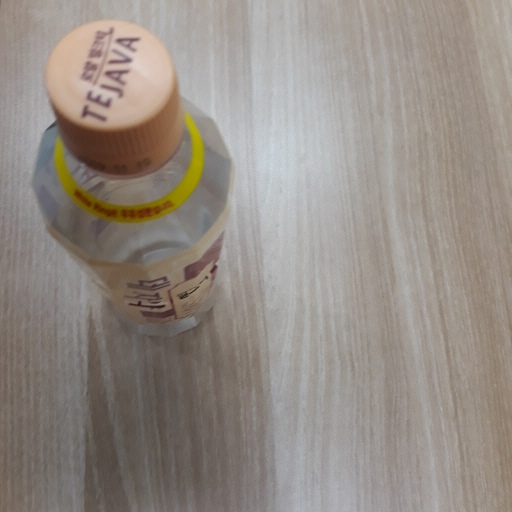Plastic_0: (30, 20, 237, 347)
